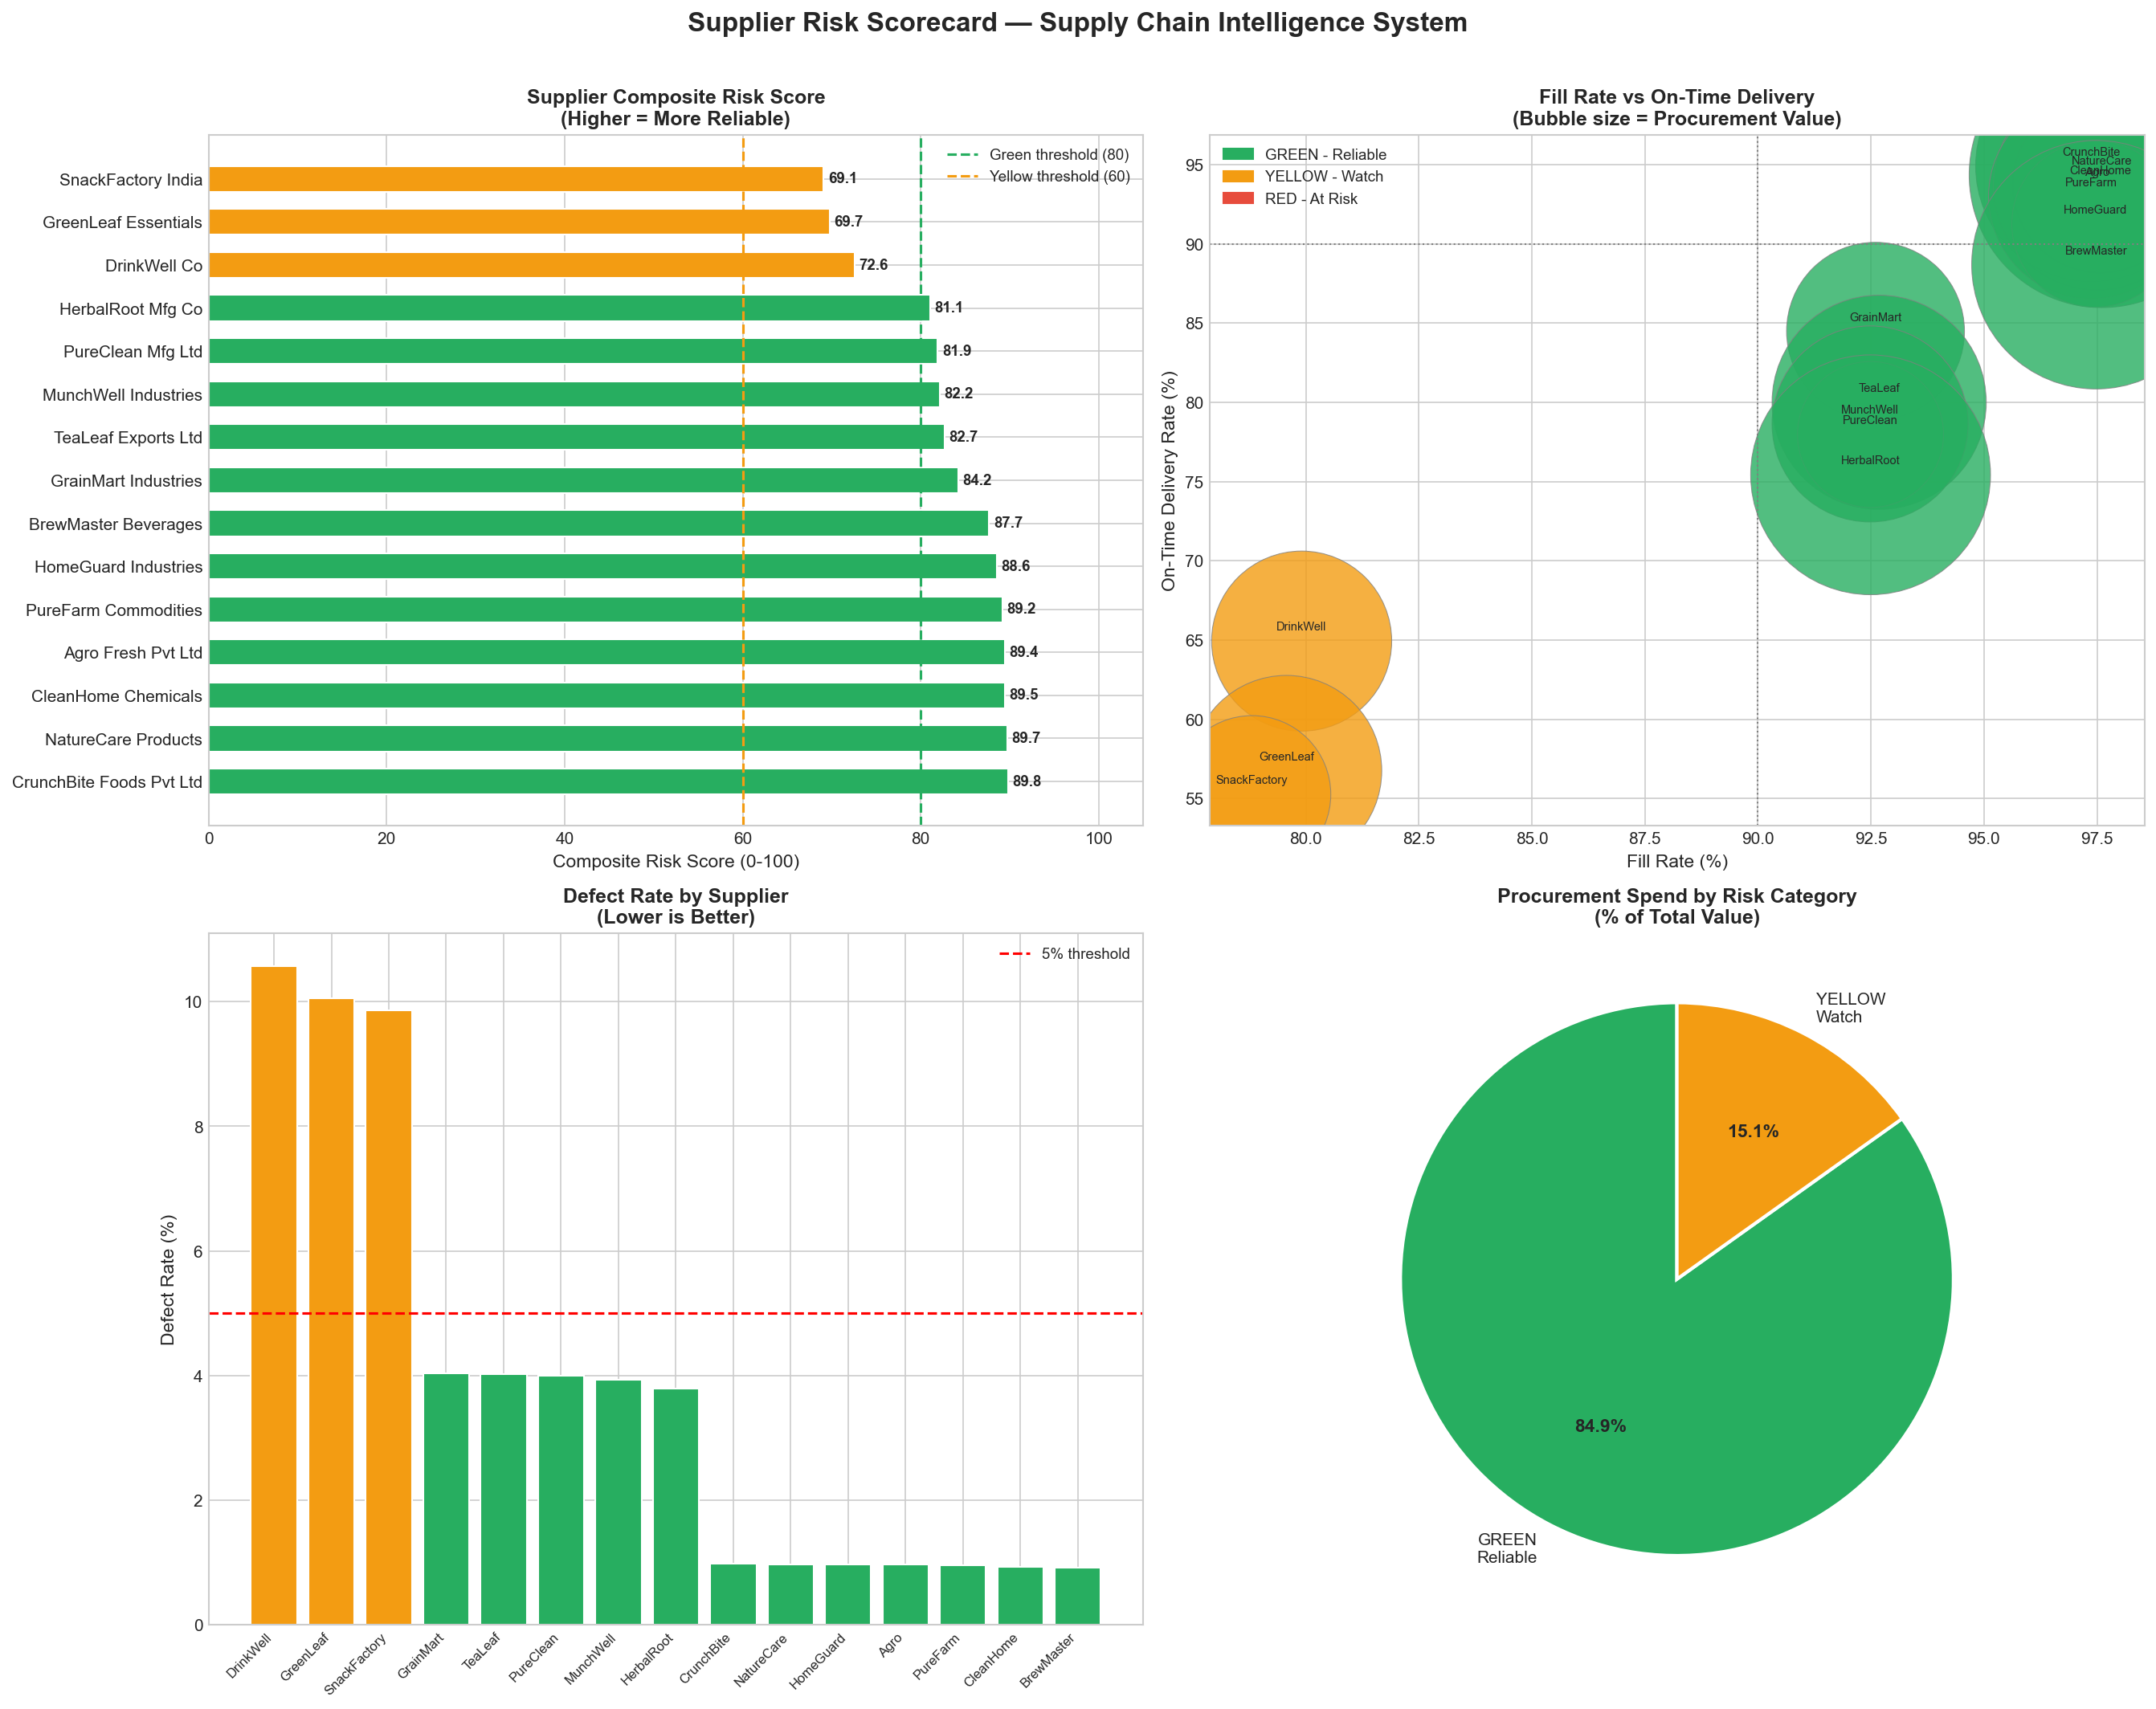

What the dashboard file says about the page in this screenshot:
{"tool":"powerbi","page":{"name":"Supplier Intelligence","canvas":[1280,720],"ordinal":1},"visuals":[{"type":"textbox","box":[1.5,0,1278.6,81],"z":0},{"type":"card","fields":{"Values":["_Measures.Overall Fill Rate"]},"box":[670.9,89.1,300.3,129.8],"z":1000},{"type":"card","fields":{"Values":["_Measures.Overall Delay Rate"]},"box":[14.1,89.1,300.3,129.8],"z":2000},{"type":"card","fields":{"Values":["_Measures.Total Cancelled POs"]},"box":[342.5,89.1,300.3,129.8],"z":3000},{"type":"lineChart","title":"Quarterly Delay Rate Trend by Supplier Tier","fields":{"Category":["purchase_orders.order_quarter"],"Y":["_Measures.Overall Delay Rate"],"Series":["suppliers.reliability_tier"]},"box":[573.9,472.3,692.8,242.4],"z":4000},{"type":"clusteredBarChart","title":"Supplier Composite Risk Score","fields":{"Y":["Sum(supplier_scorecard.composite_score)"],"Category":["supplier_scorecard.supplier_name"]},"box":[573.9,225.2,692.8,244],"z":5000},{"type":"scatterChart","title":"Fill Rate vs On-Time Delivery","fields":{"X":["Avg(supplier_scorecard.avg_fill_rate)"],"Y":["Avg(supplier_scorecard.on_time_delivery_rate)"],"Size":["Sum(supplier_scorecard.total_po_value_inr)"],"Series":["supplier_scorecard.risk_category"]},"box":[14.1,225.2,547.4,244],"z":6000},{"type":"clusteredColumnChart","title":"Defect Rate by Supplier","fields":{"Category":["supplier_scorecard.supplier_name"],"Y":["Avg(supplier_scorecard.avg_defect_rate)"]},"box":[14.1,472.3,547.4,242.4],"z":7000},{"type":"slicer","fields":{"Values":["suppliers.category_supplied"]},"box":[1007.1,115.7,259.6,76.6],"z":8000}]}

Visuals, with their boxes on the page's 1280x720 design canvas (x1, y1, x2, y2). These are canvas units, not pixel positions in the 2156x1709 screenshot, which may show the page scaled, cropped or inside an application window:
textbox: box(2, 0, 1280, 81)
card - _Measures.Overall Fill Rate: box(671, 89, 971, 219)
card - _Measures.Overall Delay Rate: box(14, 89, 314, 219)
card - _Measures.Total Cancelled POs: box(342, 89, 643, 219)
"Quarterly Delay Rate Trend by Supplier Tier" lineChart: box(574, 472, 1267, 715)
"Supplier Composite Risk Score" clusteredBarChart: box(574, 225, 1267, 469)
"Fill Rate vs On-Time Delivery" scatterChart: box(14, 225, 562, 469)
"Defect Rate by Supplier" clusteredColumnChart: box(14, 472, 562, 715)
slicer - suppliers.category_supplied: box(1007, 116, 1267, 192)
